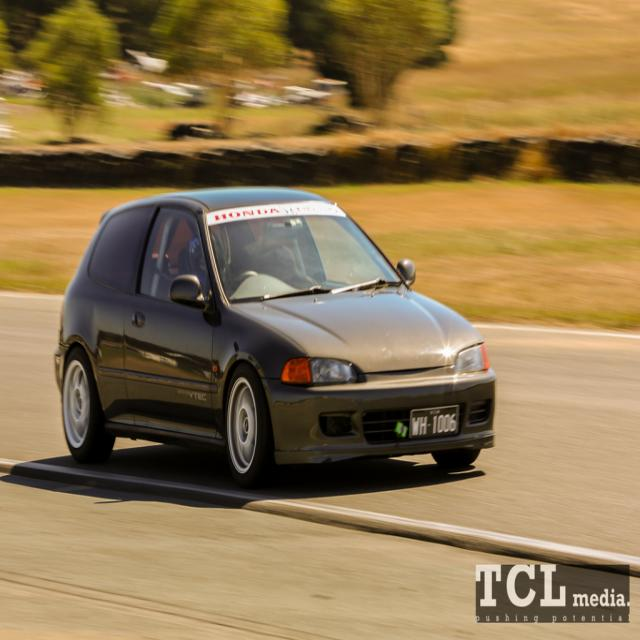Car: (52, 184, 499, 503)
